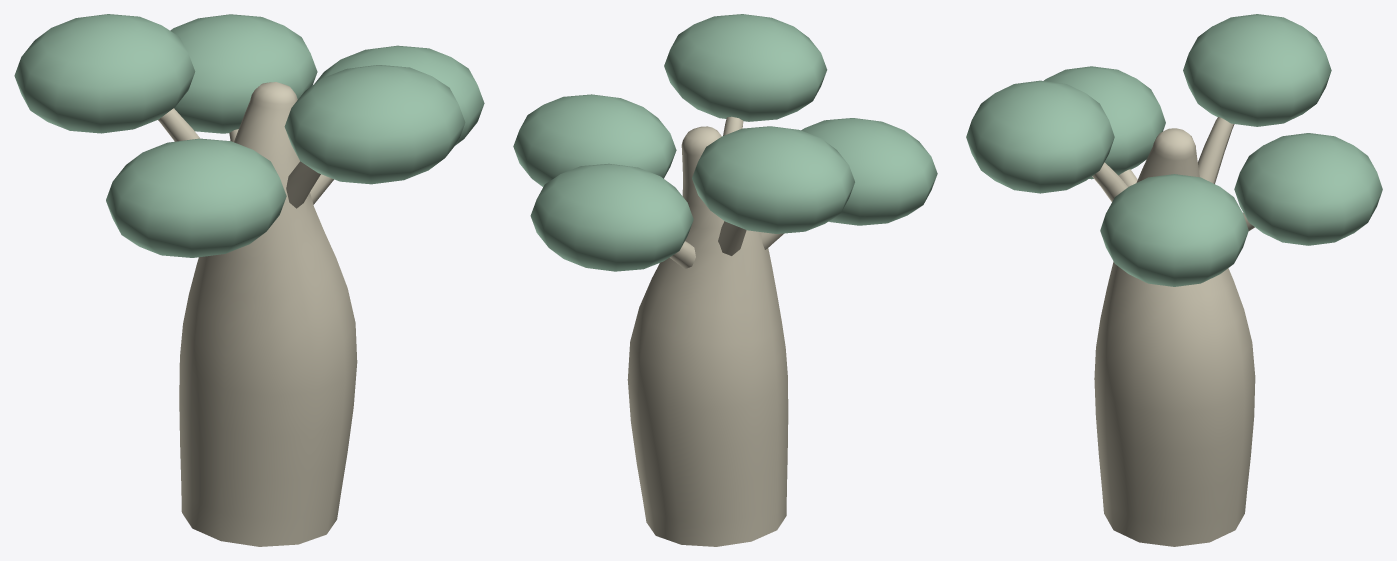
Rendered from outback-and-australian-wildlife-boab-tree-1db64543__5928.glb.
The picture shows the model from 3 angles, left to right: view 1: azimuth 30°, elevation 25°; view 2: azimuth 150°, elevation 25°; view 3: azimuth 270°, elevation 25°; orthographic projection. The views are drawn at different scales.
Visible parts, largest first — view 1: boab-tree; view 2: boab-tree; view 3: boab-tree.
Part boxes in pixels (x1,y1,x2,y2): boab-tree: [14, 14, 484, 546]; boab-tree: [513, 14, 937, 546]; boab-tree: [966, 14, 1382, 546].
Bounding box in the file's own units: 3.31 × 3.81 × 3.25.
